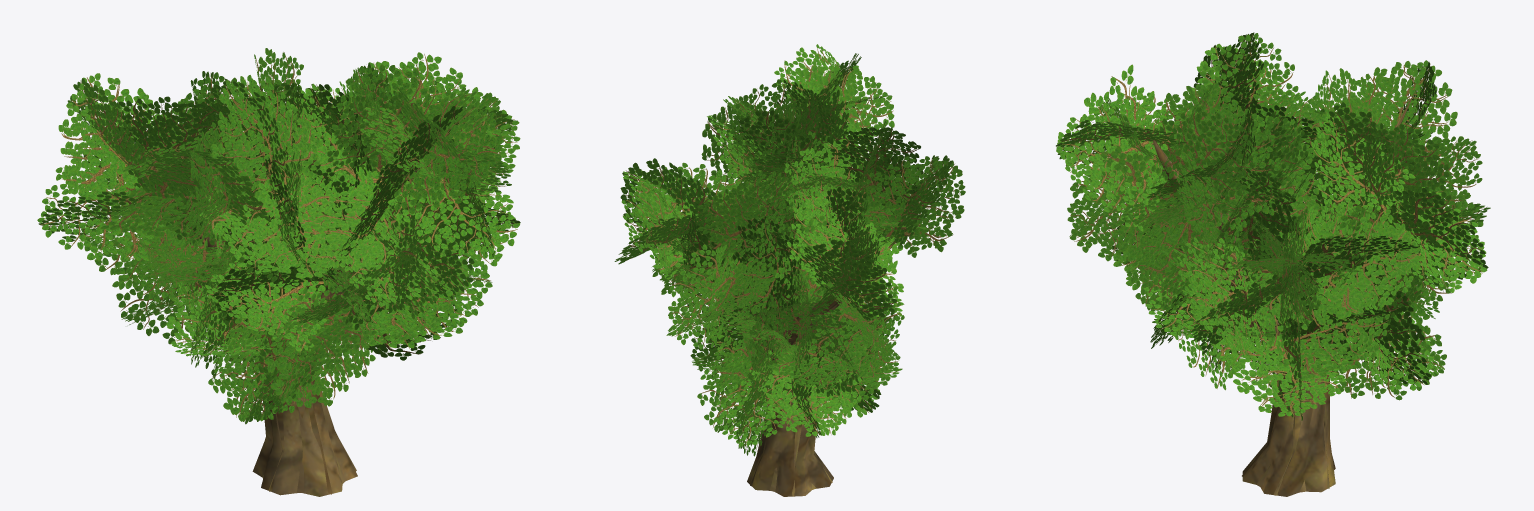
File: lod_packed_tree.obj
The picture shows the model from 3 angles, left to right: view 1: azimuth 30°, elevation 25°; view 2: azimuth 150°, elevation 25°; view 3: azimuth 270°, elevation 25°; orthographic projection. The views are drawn at different scales.
Visible parts, largest first — view 1: Plane_Plane.003, Plane.044_Plane; view 2: Plane_Plane.003, Plane.044_Plane; view 3: Plane.044_Plane, Plane_Plane.003.
Part boxes in pixels (x1=…): Plane_Plane.003: x1=37, y1=50, x2=520, y2=494; Plane.044_Plane: x1=61, y1=48, x2=520, y2=496; Plane_Plane.003: x1=615, y1=46, x2=965, y2=496; Plane.044_Plane: x1=614, y1=44, x2=965, y2=496; Plane.044_Plane: x1=1056, y1=32, x2=1487, y2=496; Plane_Plane.003: x1=1056, y1=33, x2=1490, y2=495.
Bounding box in the file's own units: 8.06 × 7.84 × 8.05.
3 materials, 3 textured.
